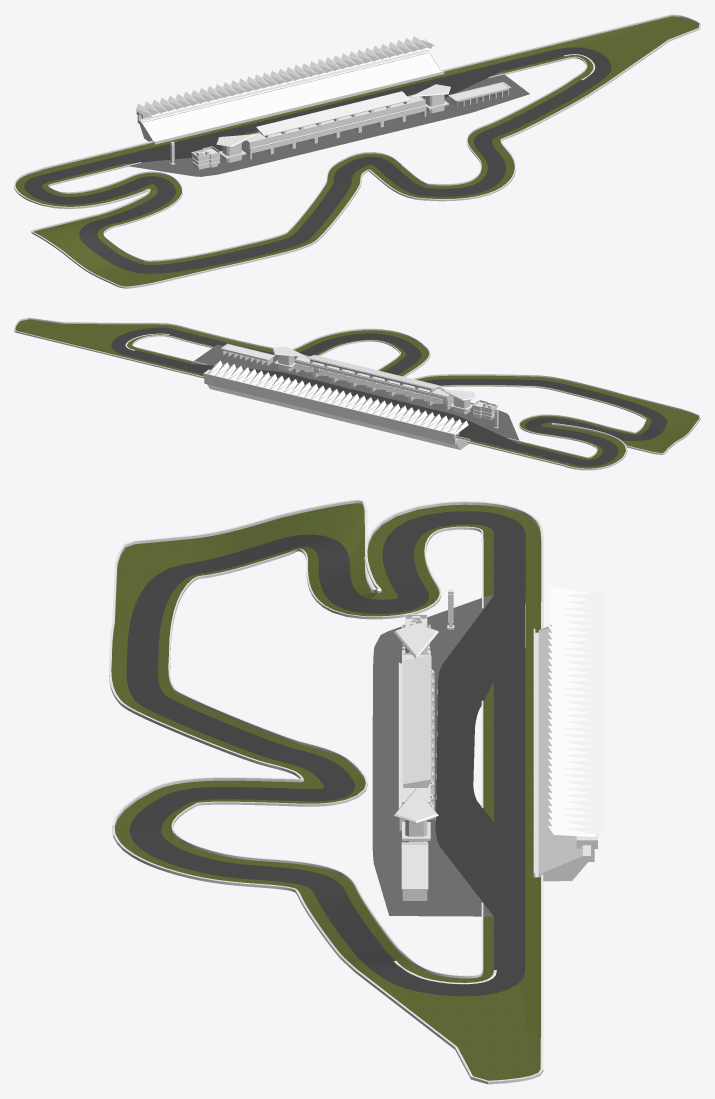
The model's file is FJ_CIRCUIT_right.glb.
The picture shows the model from 3 angles, top to bottom: view 1: azimuth 30°, elevation 25°; view 2: azimuth 150°, elevation 25°; view 3: azimuth 270°, elevation 25°; orthographic projection. The views are drawn at different scales.
Visible parts, largest first — view 1: green, course, stand, pitbill_field, stand_roof, out_wall, in_wall, pitbill_under, pitbill_top, pitbill_middle, pitbill_sidebill, pitbill_sidetop (+1 smaller); view 2: course, green, stand, stand_roof, out_wall, pitbill_field, pitbill_middle, in_wall, pitbill_top, pitbill_under, pitbill_sidebill, pitbill_sidetop (+1 smaller); view 3: course, green, stand_roof, pitbill_field, out_wall, stand, in_wall, pitbill_top, pitbill_under, pitbill_sidetop, pitbill_middle.
Boxes of the visible parts, <box> form: green: <box>15,16,698,286</box>; course: <box>24,47,611,273</box>; stand: <box>136,39,444,144</box>; pitbill_field: <box>122,72,529,176</box>; stand_roof: <box>135,36,435,117</box>; out_wall: <box>14,14,700,288</box>; in_wall: <box>48,56,587,261</box>; pitbill_under: <box>242,82,511,159</box>; pitbill_top: <box>256,91,410,137</box>; pitbill_middle: <box>242,94,425,148</box>; pitbill_sidebill: <box>220,94,448,162</box>; pitbill_sidetop: <box>216,84,450,147</box>; course: <box>111,327,666,466</box>; green: <box>15,319,699,468</box>; stand: <box>203,369,469,449</box>; stand_roof: <box>208,360,468,434</box>; out_wall: <box>14,317,700,470</box>; pitbill_field: <box>190,344,520,443</box>; pitbill_middle: <box>294,354,453,404</box>; in_wall: <box>132,334,646,458</box>; pitbill_top: <box>307,355,440,392</box>; pitbill_under: <box>221,343,453,410</box>; pitbill_sidebill: <box>274,355,472,414</box>; pitbill_sidetop: <box>272,346,475,400</box>; course: <box>126,511,525,996</box>; green: <box>111,503,541,1080</box>; stand_roof: <box>548,585,605,836</box>; pitbill_field: <box>372,595,493,916</box>; out_wall: <box>109,499,543,1084</box>; stand: <box>533,625,597,881</box>; in_wall: <box>168,526,483,978</box>; pitbill_top: <box>402,655,431,787</box>; pitbill_under: <box>398,662,428,900</box>; pitbill_sidetop: <box>393,624,438,823</box>; pitbill_middle: <box>402,653,434,819</box>.
Bounding box in the file's own units: 294 × 19.58 × 103.
Materials: 4 (1 with a texture image).
